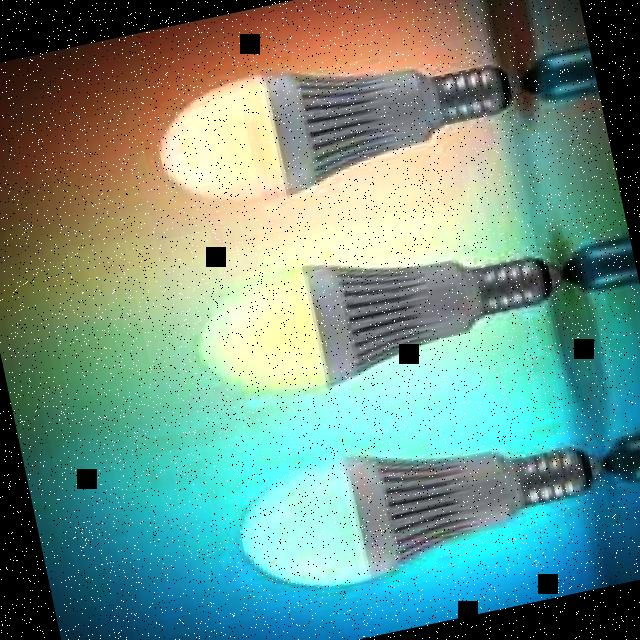light_bulb: (174, 202, 585, 420), (213, 394, 623, 611), (129, 12, 536, 230)
